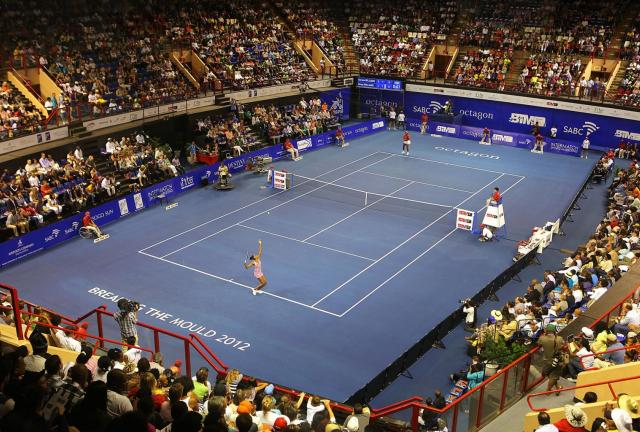tennis ball: (265, 211, 272, 217)
tennis player: (240, 248, 270, 297), (398, 130, 414, 159)
